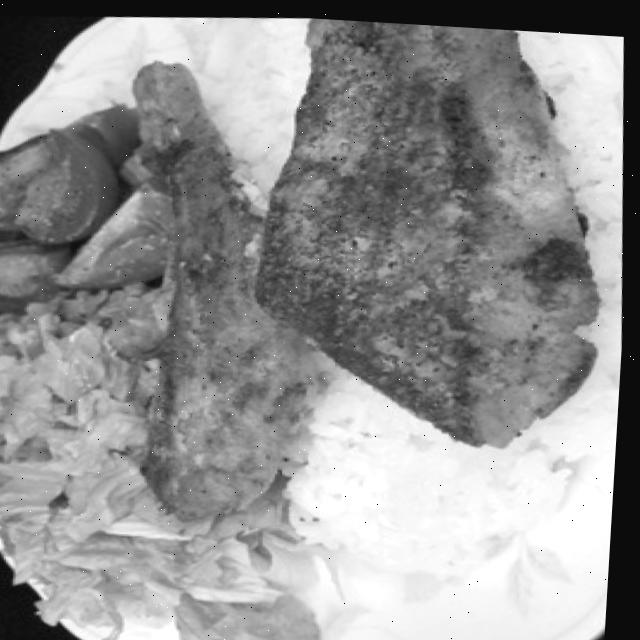熟制海鲜: (91, 5, 630, 509)
